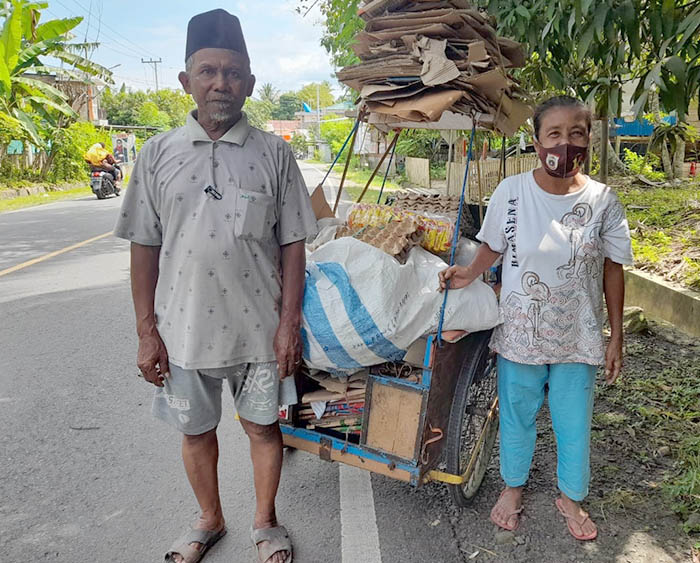pemulung: (294, 1, 630, 562)
